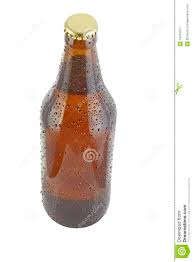beer: (40, 14, 116, 227)
